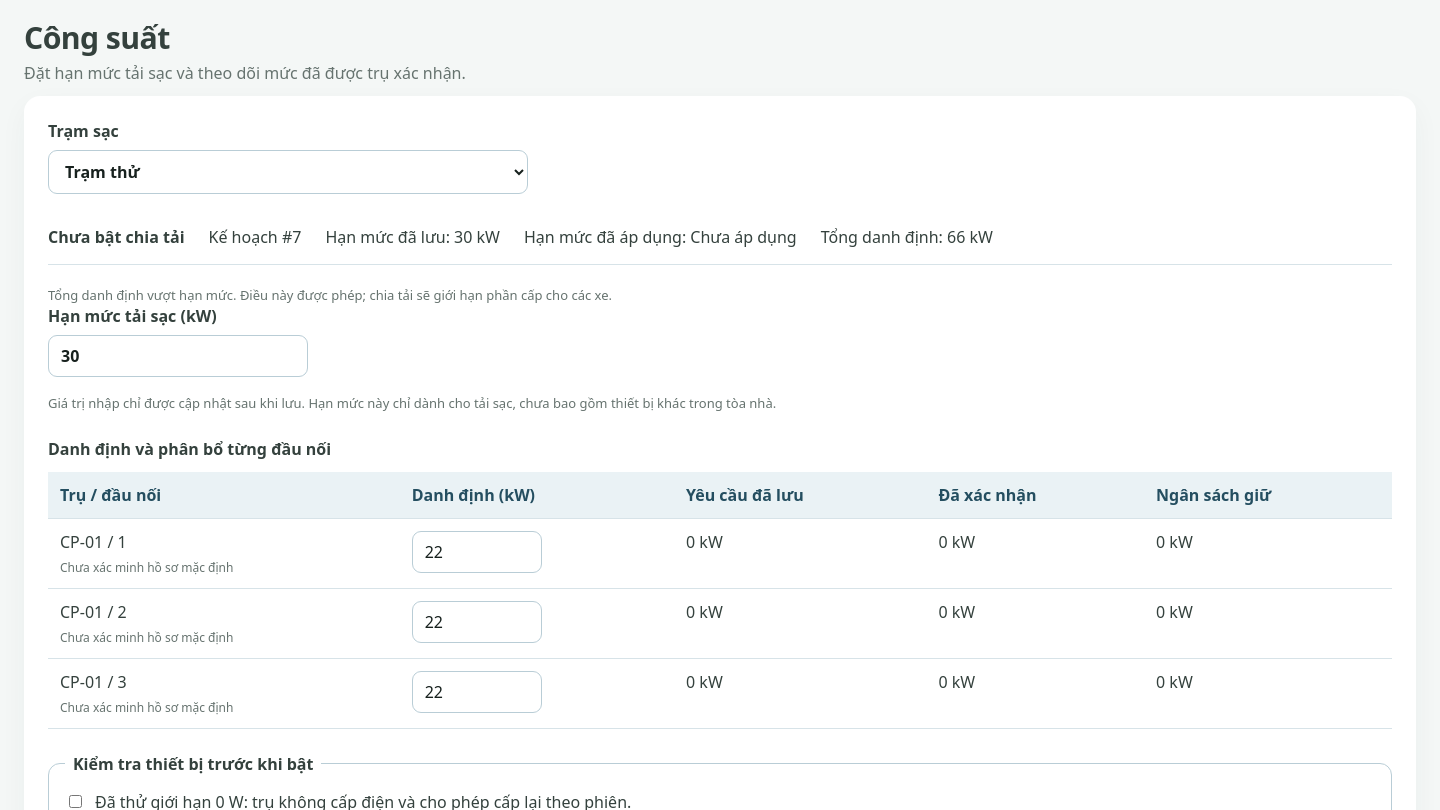
Scenario: saves all connector ratings with version and only enables after saved commissioning evidence
Expected: the text "Chưa bật chia tải" is shown, top-left (48, 226), bottom-right (184, 248)
Click the checkbox labelled "Đã thử giới hạn 0 W" at (76, 801), box top-left (69, 795), bottom-right (82, 808)
(page scrolled)
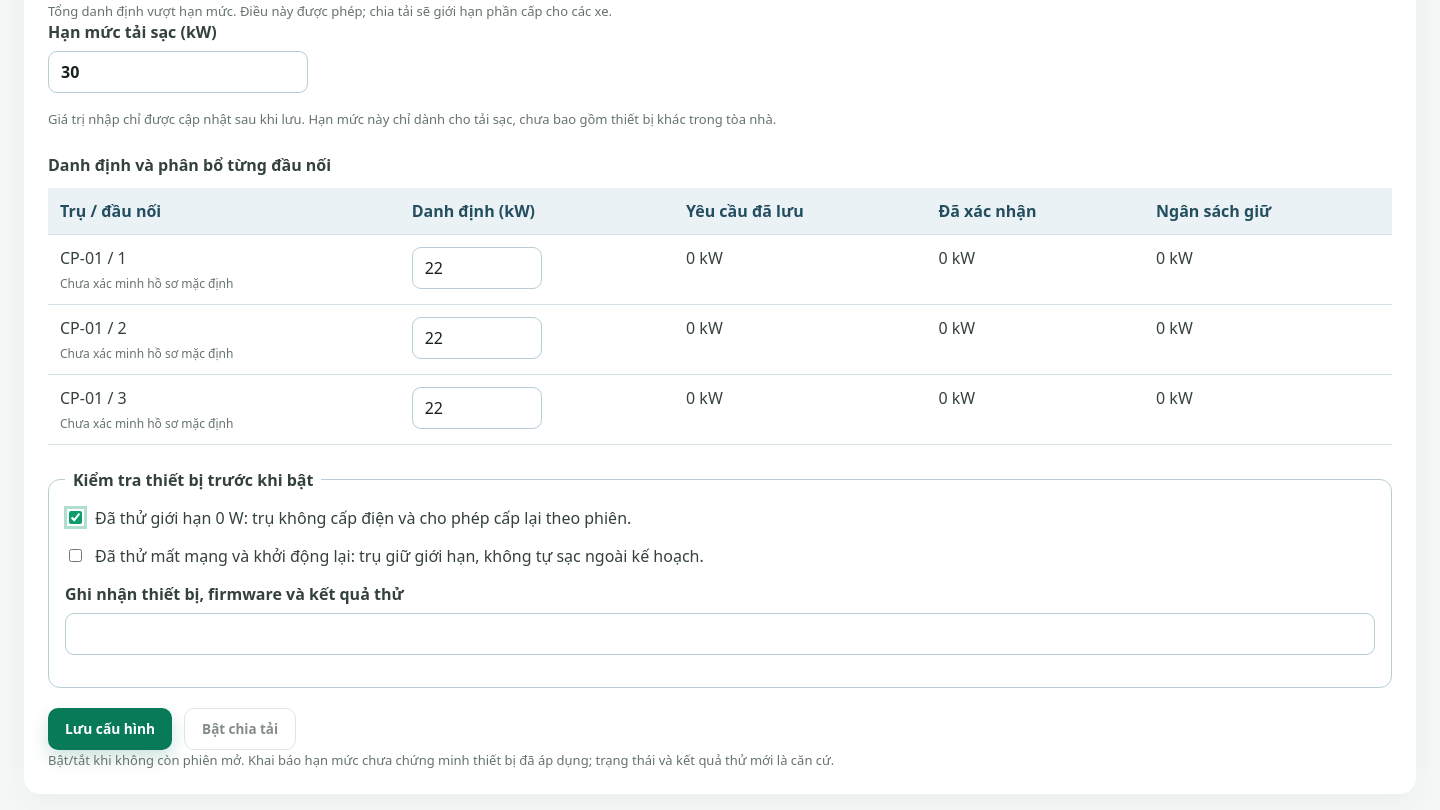
Click the checkbox labelled "Đã thử mất mạng" at (76, 555), box top-left (69, 549), bottom-right (82, 562)
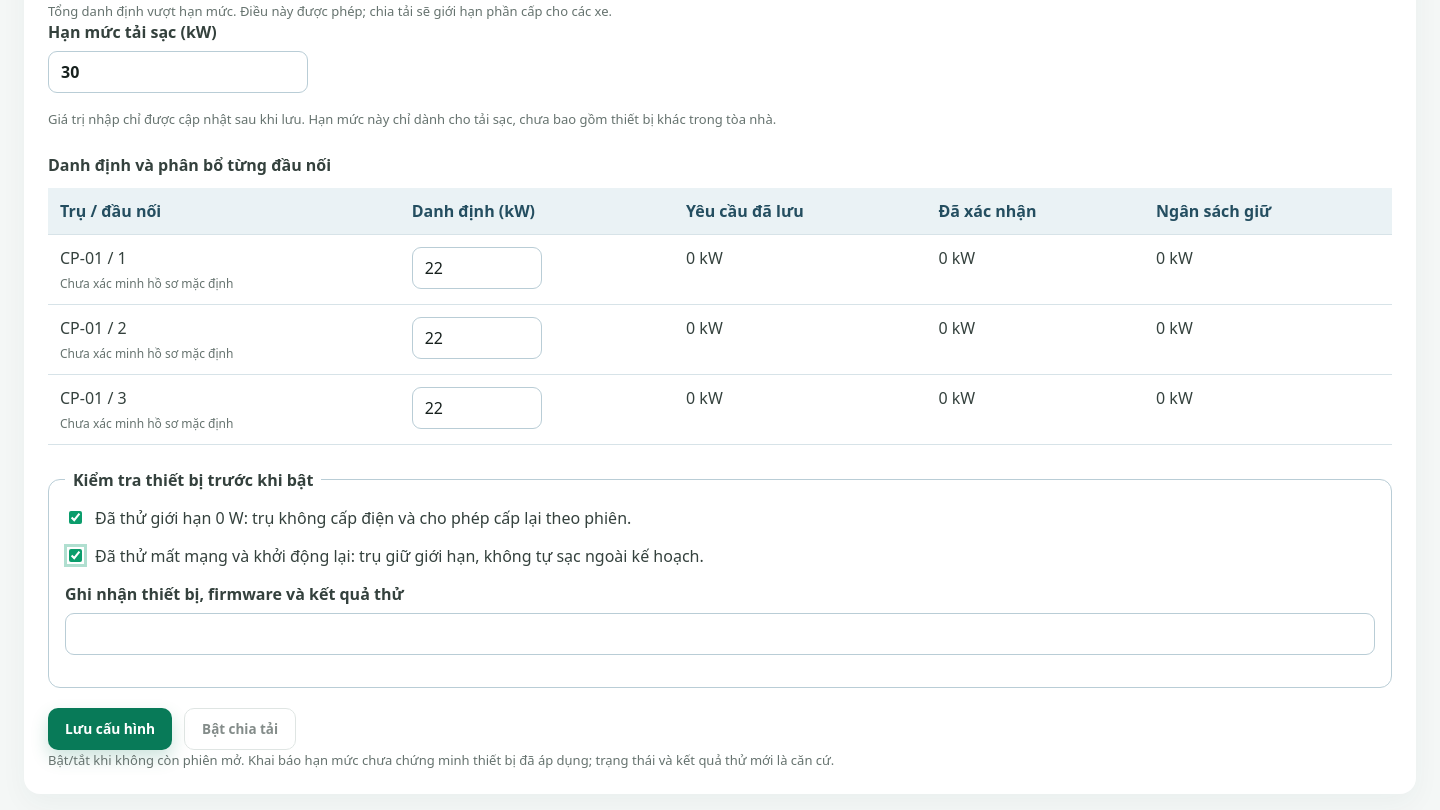
Type "Simulator G1 verified" into the field labelled "Ghi nhận thiết bị, firmware và kết quả thử" at (720, 634), box top-left (65, 613), bottom-right (1375, 655)
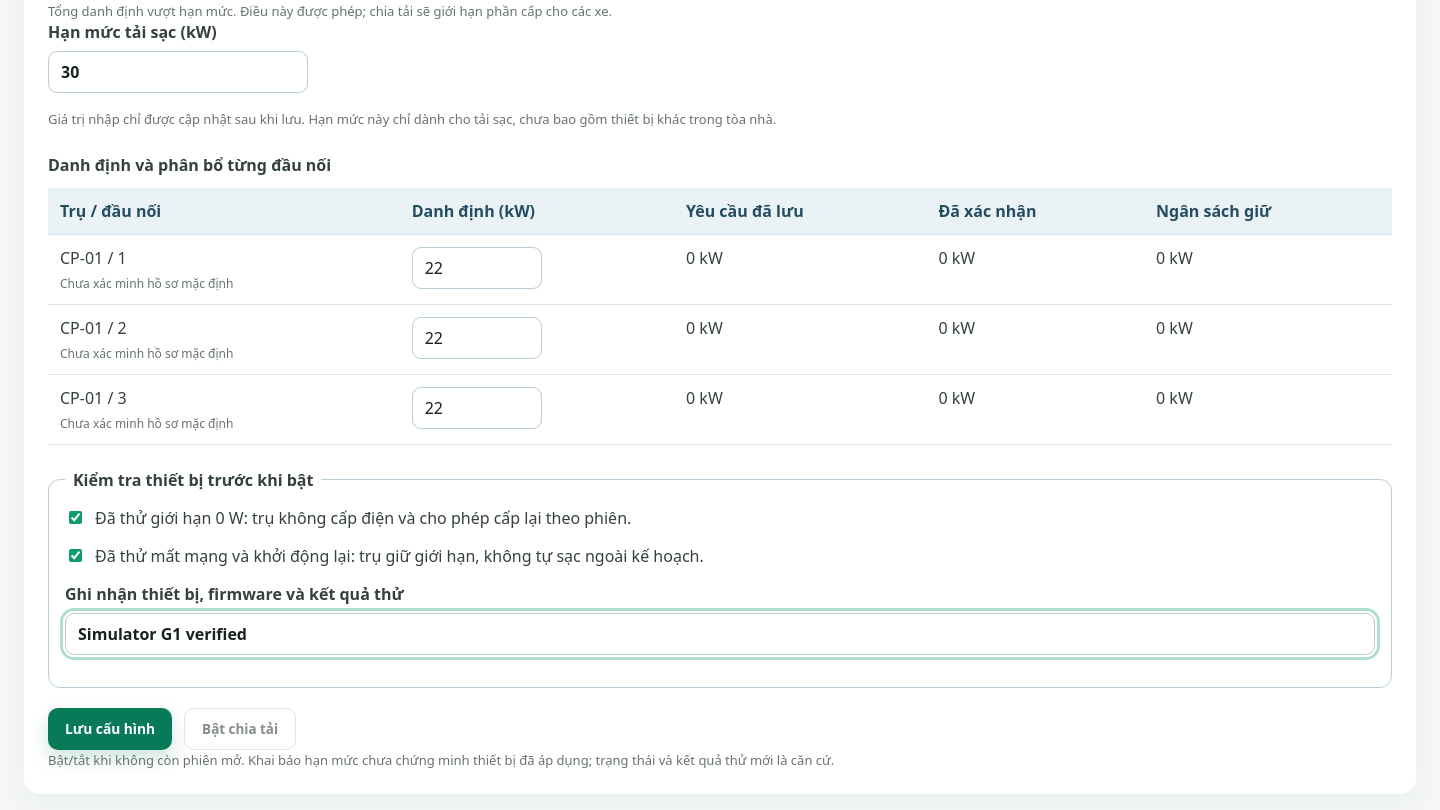
Click the button "Lưu cấu hình" at (110, 729), box top-left (48, 708), bottom-right (172, 750)
(page scrolled)
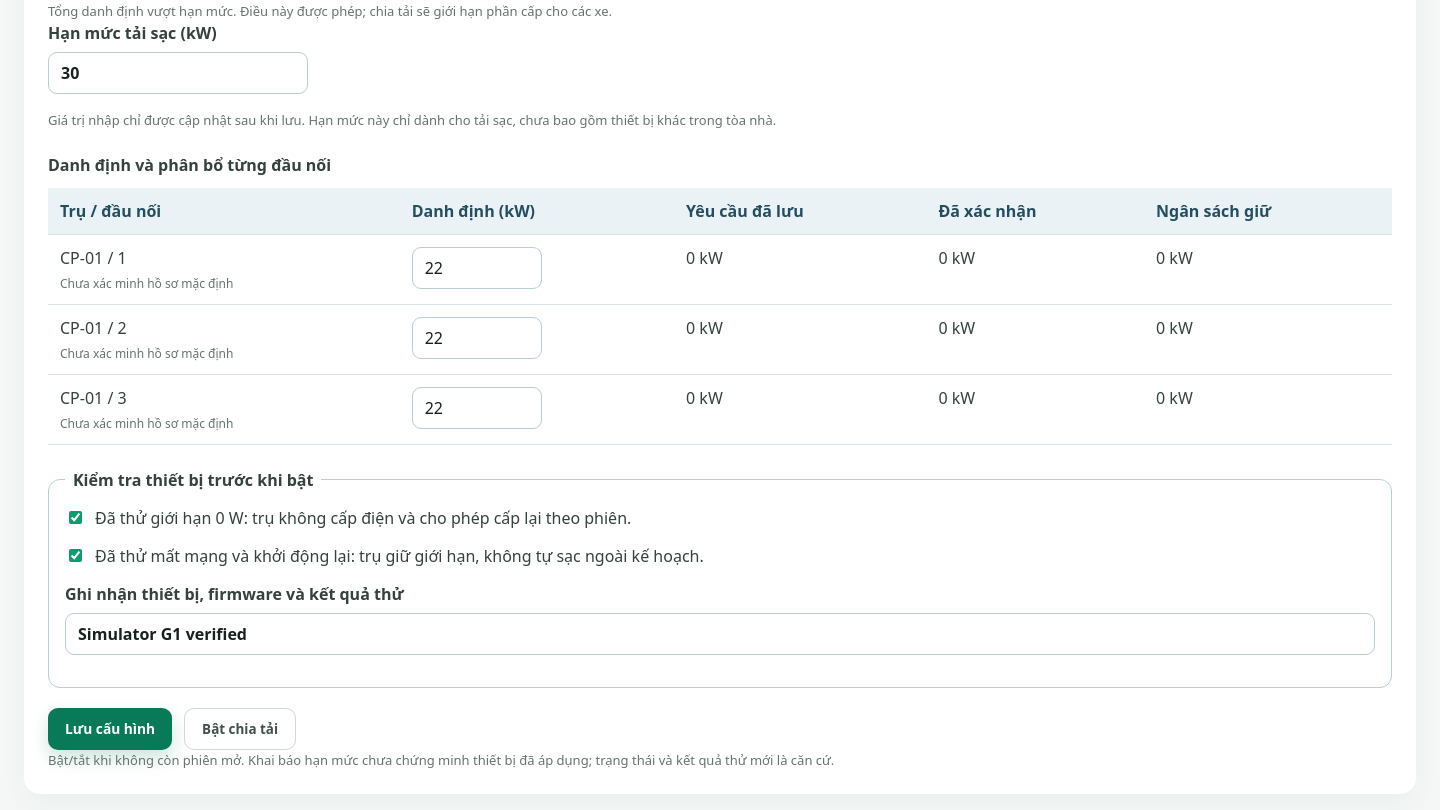
Click the button "Bật chia tải" at (240, 729), box top-left (184, 708), bottom-right (296, 750)
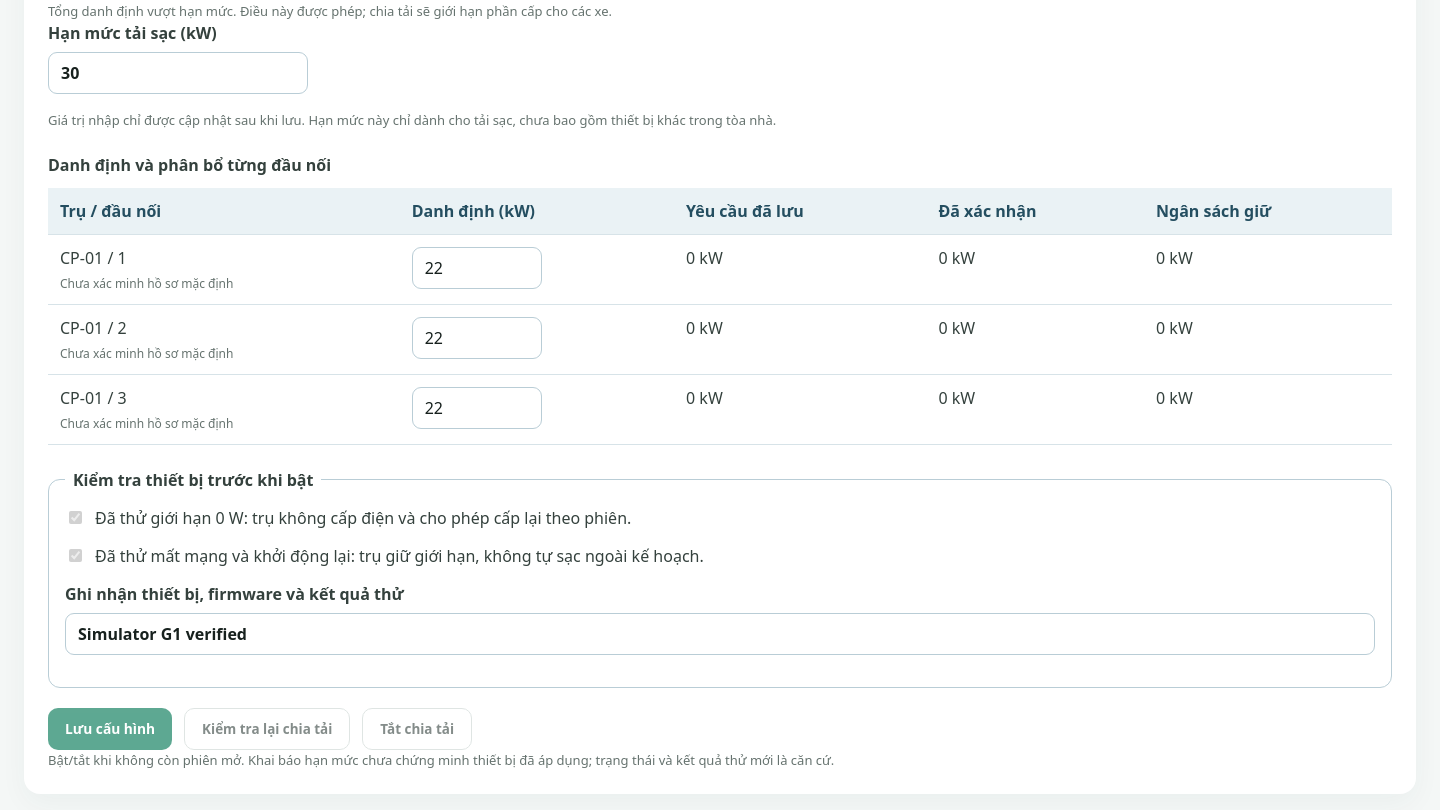
Expected: the button "Lưu cấu hình" is disabled, top-left (48, 708), bottom-right (172, 750)
